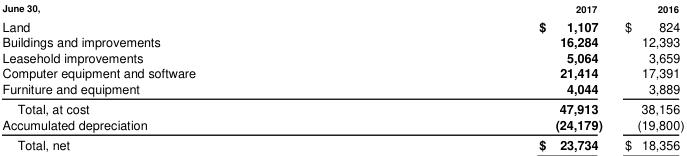table: (1, 0, 683, 153)
table column: (1, 0, 366, 153), (366, 0, 612, 153), (612, 0, 683, 153)
table column header: (1, 0, 683, 16)
table row: (1, 134, 683, 153), (1, 80, 683, 98), (1, 98, 683, 116), (1, 116, 683, 134), (1, 16, 683, 33), (1, 0, 683, 16), (1, 33, 683, 49), (1, 64, 683, 80), (1, 49, 683, 64)
